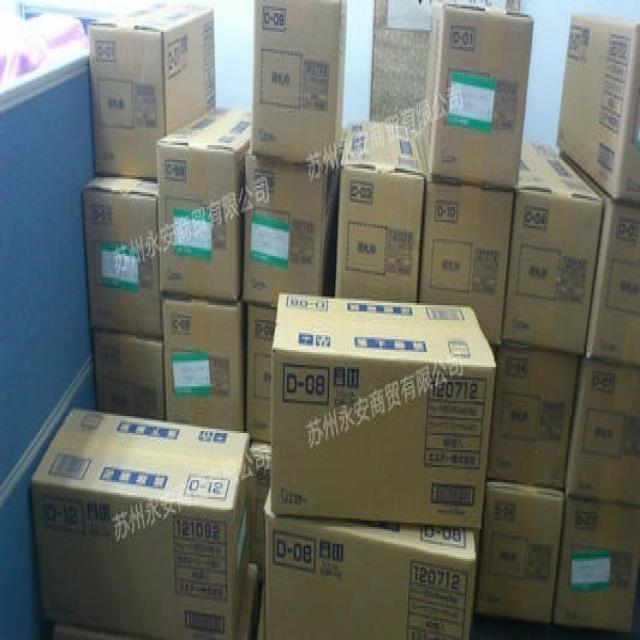box: (271, 292, 496, 531), (31, 407, 250, 640), (264, 480, 477, 640), (88, 0, 216, 181), (502, 139, 602, 356), (421, 2, 534, 188), (157, 107, 253, 303), (557, 145, 640, 365), (335, 122, 426, 303), (557, 11, 640, 207), (252, 0, 347, 169), (243, 145, 342, 307), (419, 179, 515, 343), (486, 346, 580, 491), (82, 175, 162, 339), (475, 482, 564, 623), (551, 491, 640, 631), (161, 297, 247, 433), (564, 356, 639, 503), (92, 331, 165, 420), (246, 305, 276, 442), (249, 439, 271, 582), (53, 623, 235, 640), (235, 561, 256, 640)
